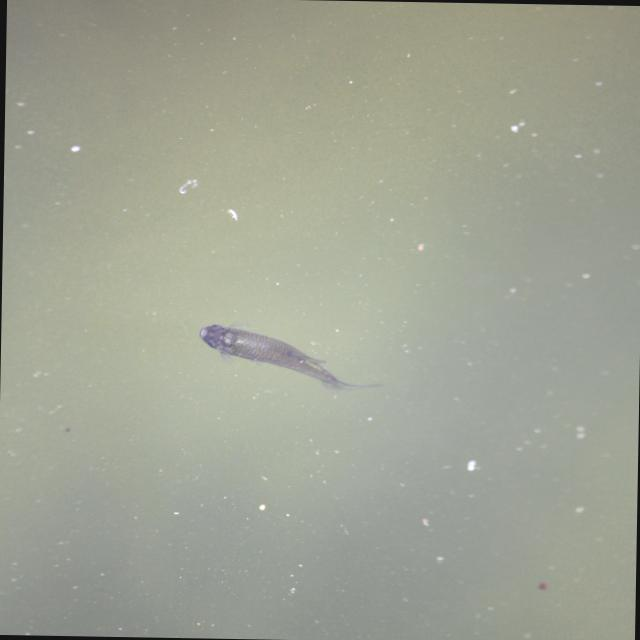Cakil Baligi: (194, 319, 383, 396)
